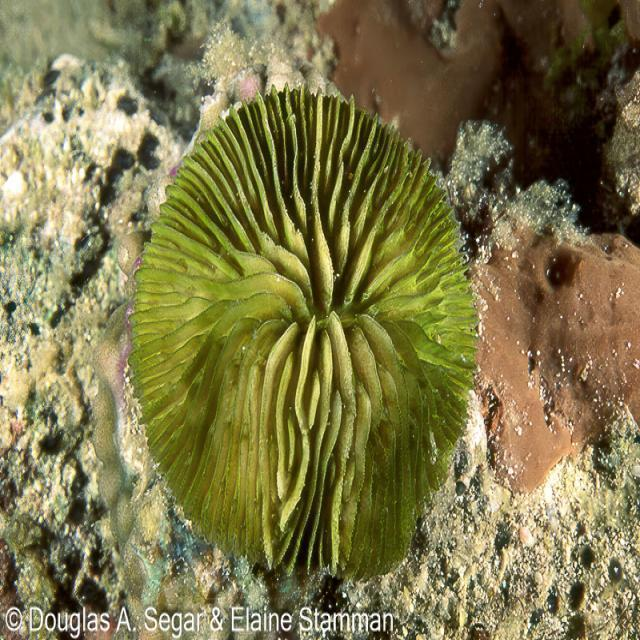Healthy Coral: (123, 63, 487, 584)
